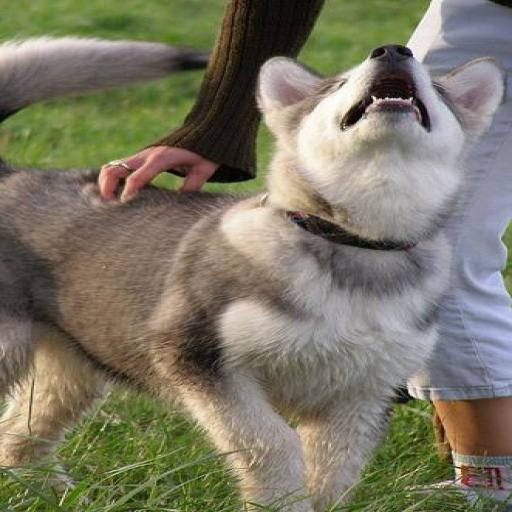dog_face: (253, 43, 511, 208)
